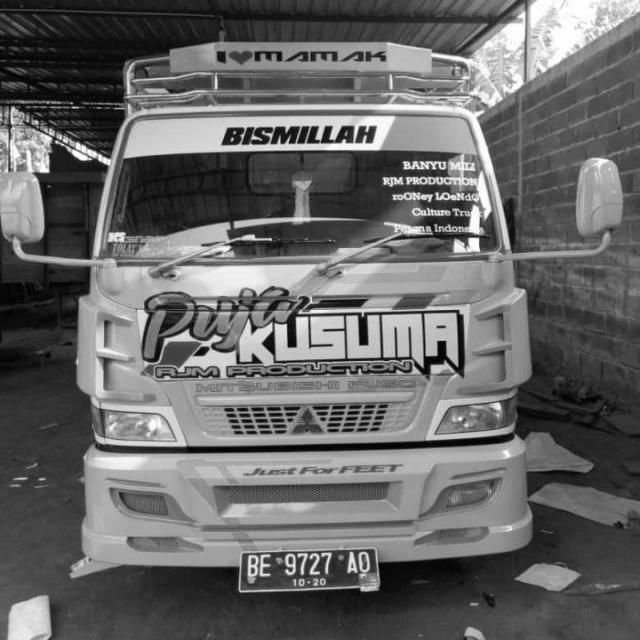truck: (1, 66, 622, 599)
